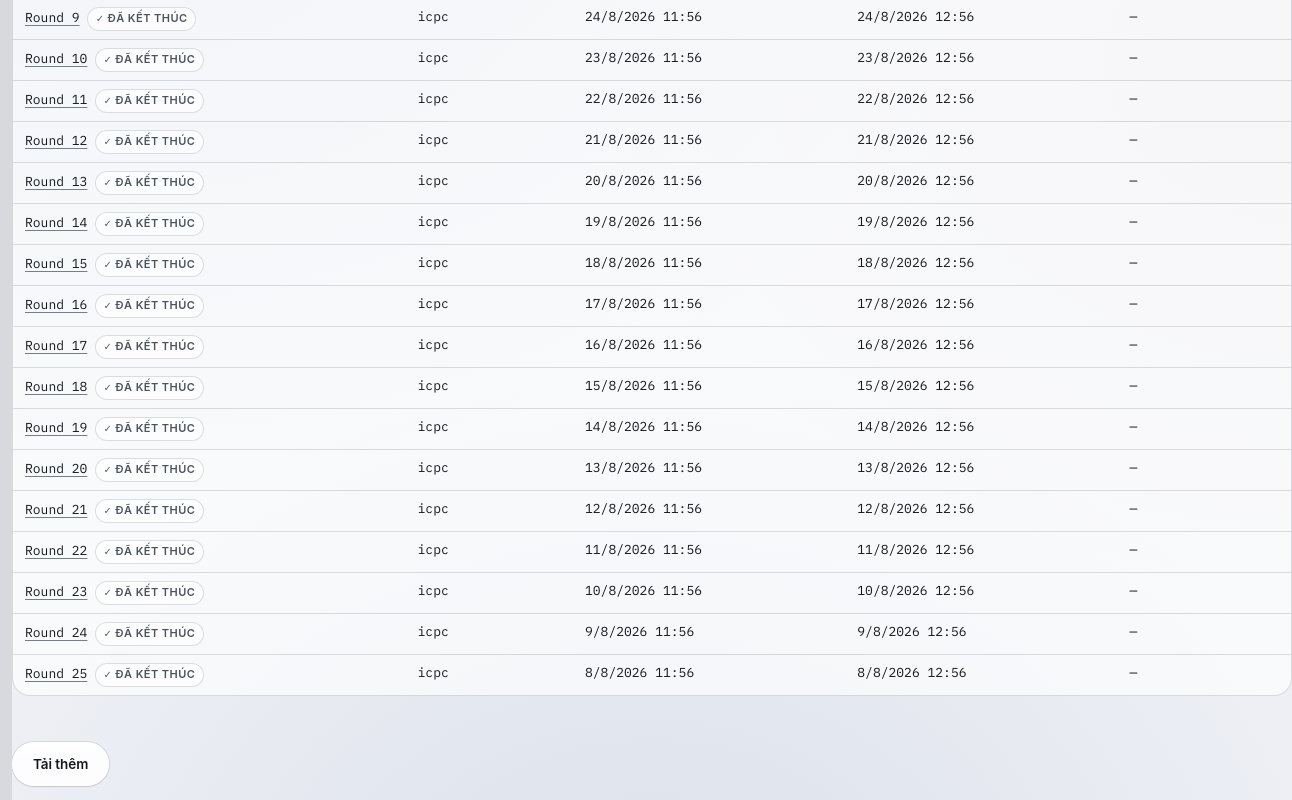
Scenario: ContestsPage past one page (D180) › offers "load more" and sends the first page’s cursor for the rest
(page scrolled)
Click the button "Tải thêm": (61,764) x1=12 y1=742 x2=109 y2=786
(page scrolled)
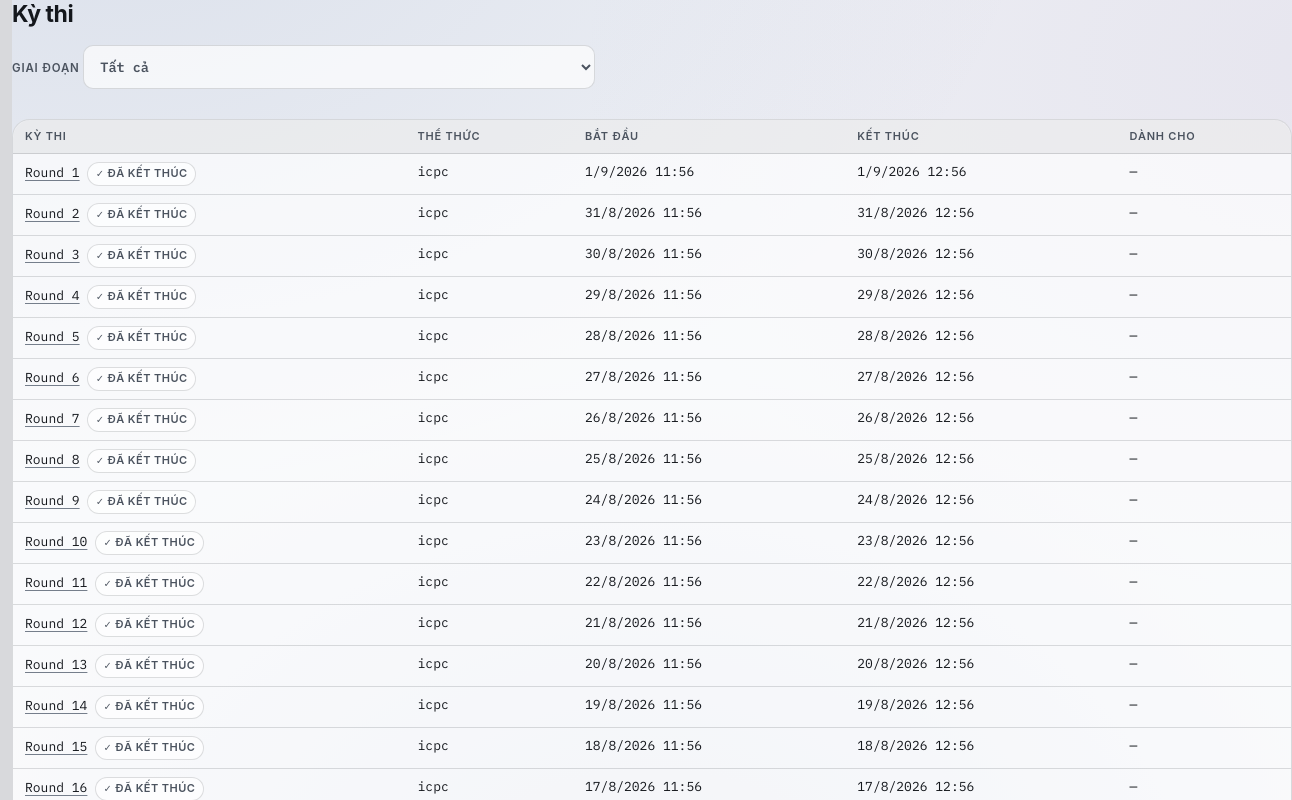
Check: the link "Round 1" is shown, box x1=25 y1=164 x2=80 y2=181
Check: the button "Tải thêm" is gone
